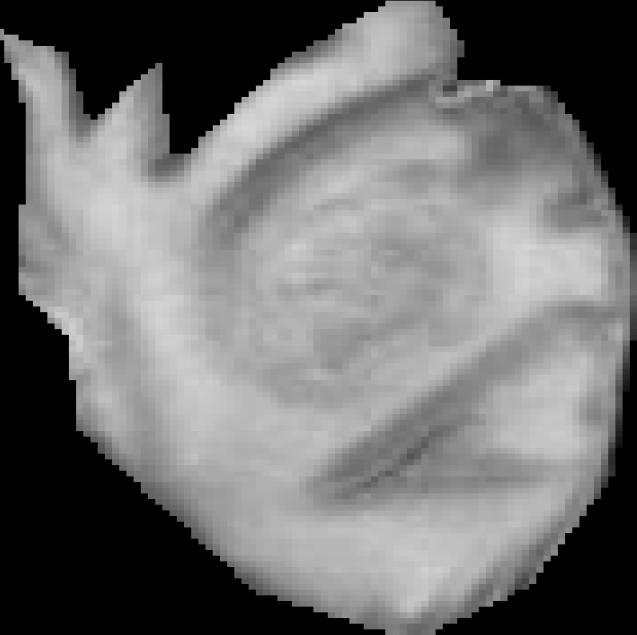tumor_moderate_chance: (1, 1, 637, 635)
